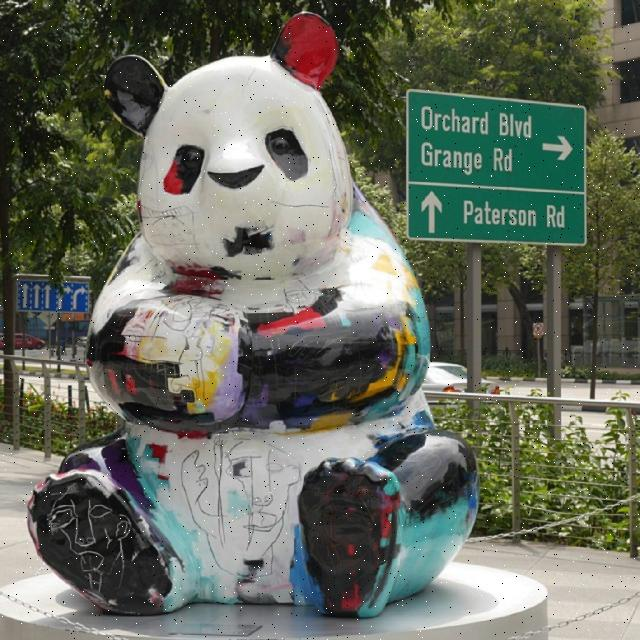panda: (24, 12, 480, 614)
